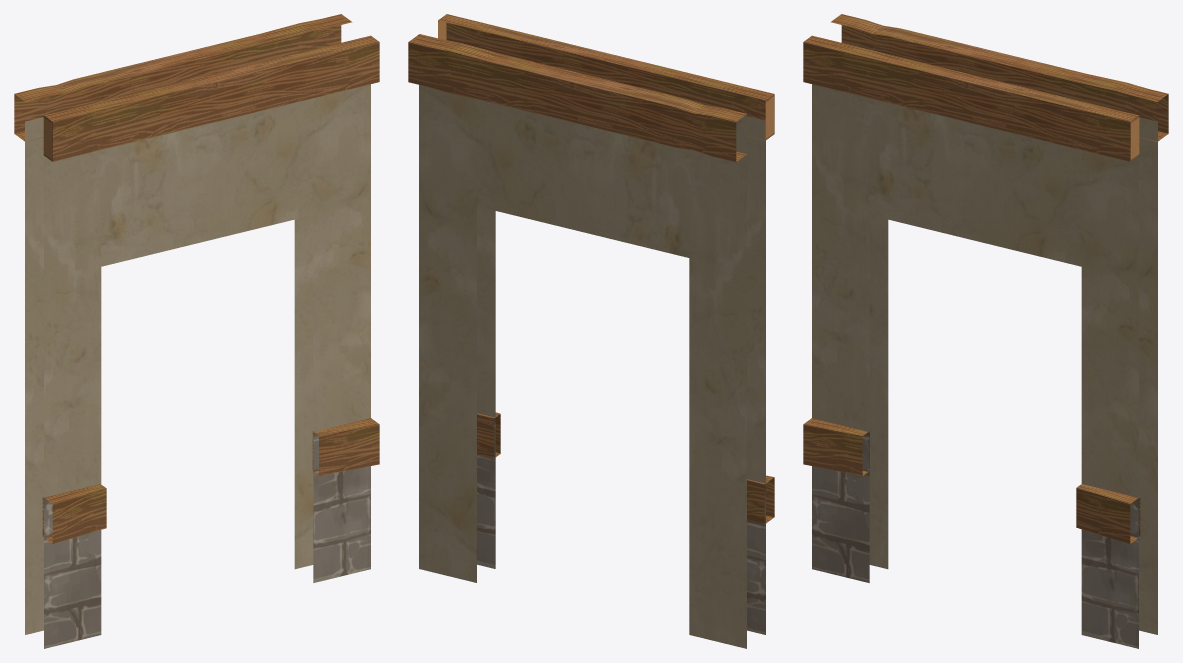
The model's file is Wall_Plaster_Door_Flat.gltf.
The picture shows the model from 3 angles, left to right: view 1: azimuth 30°, elevation 25°; view 2: azimuth 150°, elevation 25°; view 3: azimuth 330°, elevation 25°; orthographic projection.
Parts seen in each view (by area): view 1: Wall_Plaster_Door_Flat; view 2: Wall_Plaster_Door_Flat; view 3: Wall_Plaster_Door_Flat.
Part boxes in pixels (bbox=[...]): Wall_Plaster_Door_Flat: bbox=[14, 14, 379, 648]; Wall_Plaster_Door_Flat: bbox=[408, 14, 774, 648]; Wall_Plaster_Door_Flat: bbox=[803, 14, 1168, 648].
Size of the model in its own units: 2 by 3.12 by 0.4065.
3 materials, 3 textured.
